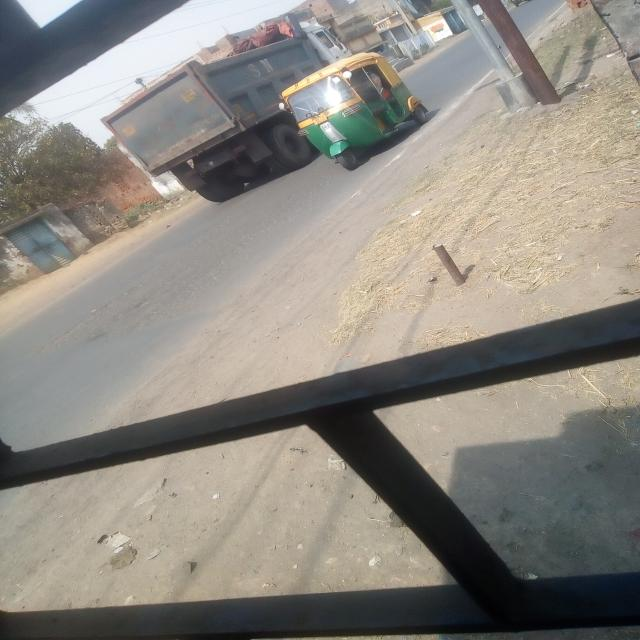Autorickshaw: (291, 38, 422, 164)
Truck: (82, 0, 335, 207)
